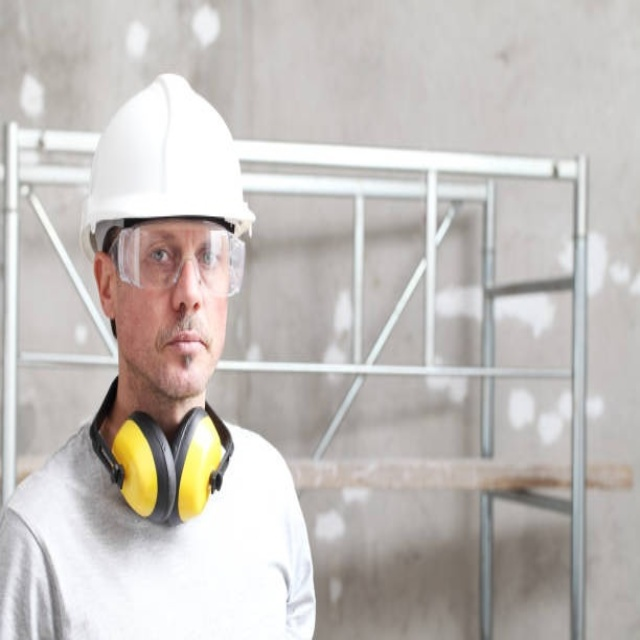Gafas: (101, 225, 248, 295)
Sin_mascara: (154, 322, 215, 386)
